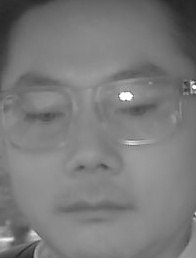eye: (26, 108, 63, 126), (118, 102, 156, 119)
glass: (91, 76, 180, 148), (4, 82, 78, 151)
mouth: (53, 189, 131, 227)
